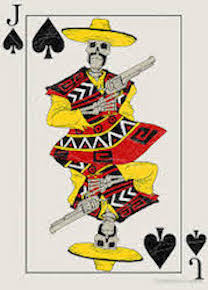JackOfSpades: (1, 1, 208, 286)
